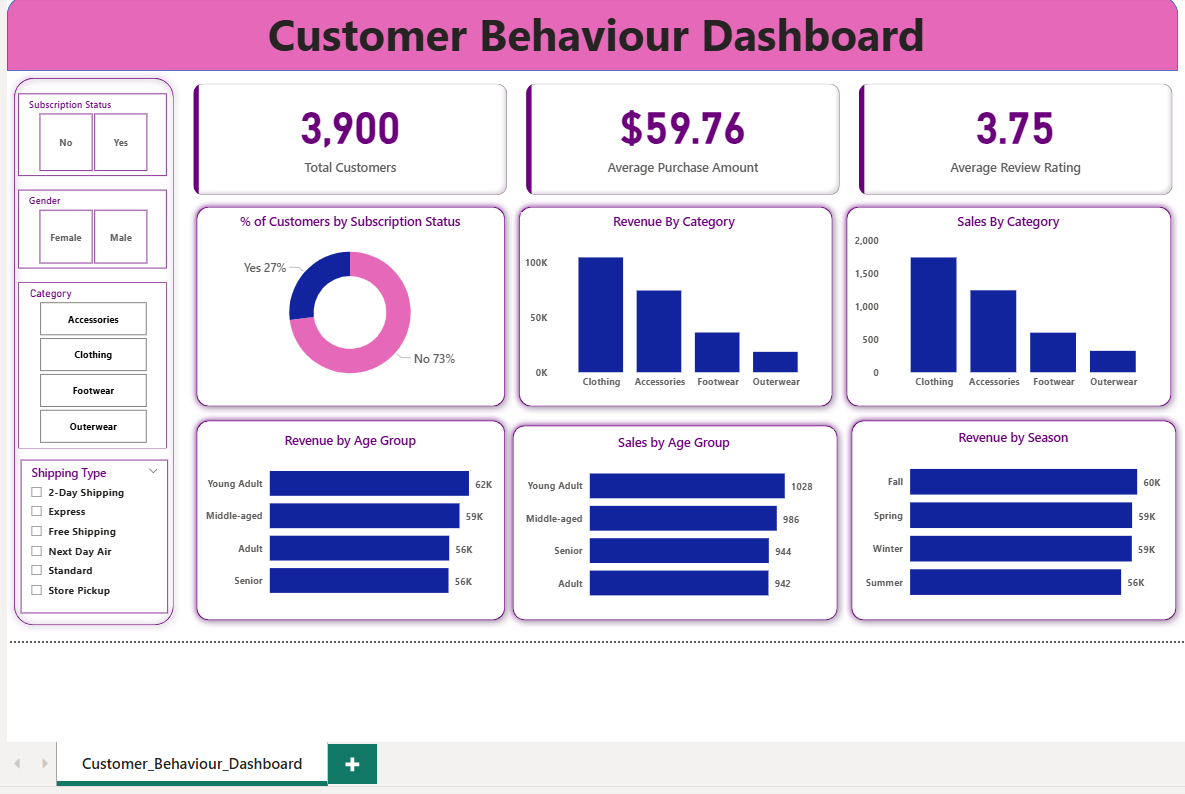

Layout of this report page (visuals, bound fields, positions):
{"tool":"powerbi","page":{"name":"Page 1","canvas":[1500,820],"ordinal":0},"visuals":[{"type":"cardVisual","fields":{"Data":["customer_data.Total Customers","customer_data.Average Purchase","customer_data.Average Rating"]},"box":[232.1,106.5,1257.4,152.6],"z":0},{"type":"shape","box":[0,0,1489.5,95.4],"z":1000},{"type":"textbox","box":[191.1,4.1,1117.8,85.5],"z":2000},{"type":"shape","box":[232.1,259.1,410.1,271.8],"z":3000},{"type":"donutChart","title":"% of Customers by Subscription Status","fields":{"Y":["CountNonNull(customer_data.customer_id)"],"Category":["customer_data.subscription_status"]},"box":[246.4,275,379.9,233.7],"z":4000},{"type":"shape","box":[642.2,259.1,416.5,271.8],"z":5000},{"type":"clusteredColumnChart","title":"Revenue By Category","fields":{"Category":["customer_data.category"],"Y":["Sum(customer_data.purchase_amount)"]},"box":[653.4,275,389.5,233.7],"z":6000},{"type":"shape","box":[1058.7,259.1,430.8,271.8],"z":7000},{"type":"clusteredColumnChart","title":"Sales By Category","fields":{"Category":["customer_data.category"],"Y":["CountNonNull(customer_data.customer_id)"]},"box":[1073,275,400.6,233.7],"z":8000},{"type":"shape","box":[0,95.4,221,713.8],"z":9000},{"type":"slicer","fields":{"Values":["customer_data.subscription_status"]},"box":[14.3,124,189.2,104.9],"z":10000},{"type":"slicer","fields":{"Values":["customer_data.gender"]},"box":[14.3,246.4,189.2,100.1],"z":11000},{"type":"slicer","fields":{"Values":["customer_data.shipping_type"]},"box":[17.5,589.8,187.6,195.5],"z":12000},{"type":"shape","box":[232.1,530.9,410.1,271.8],"z":13000},{"type":"shape","box":[1065.1,530.9,430.8,271.8],"z":14000},{"type":"clusteredBarChart","title":"Revenue by Age Group","fields":{"Y":["Sum(customer_data.purchase_amount)"],"Category":["customer_data.age_group"]},"box":[246.4,553.2,379.9,228.9],"z":15000},{"type":"shape","box":[634.3,537.3,430.8,265.5],"z":16000},{"type":"clusteredBarChart","title":"Sales by Age Group","fields":{"Category":["customer_data.age_group"],"Y":["CountNonNull(customer_data.customer_id)"]},"box":[653.4,556.4,389.5,228.9],"z":17000},{"type":"clusteredBarChart","title":"Revenue by Season","fields":{"Y":["Sum(customer_data.purchase_amount)"],"Category":["customer_data.season"]},"box":[1085.7,550,387.9,235.3],"z":18000},{"type":"slicer","fields":{"Values":["customer_data.category"]},"box":[14.3,364,189.2,211.4],"z":19000}]}

Visuals, with their boxes in screenshot pixels (x1, y1, x2, y2):
cardVisual - customer_data.Total Customers x customer_data.Average Purchase: locate(190, 216, 1170, 335)
shape: locate(9, 133, 1170, 207)
textbox: locate(158, 136, 1029, 203)
shape: locate(190, 335, 510, 546)
"% of Customers by Subscription Status" donutChart: locate(201, 347, 497, 529)
shape: locate(510, 335, 834, 546)
"Revenue By Category" clusteredColumnChart: locate(518, 347, 822, 529)
shape: locate(834, 335, 1170, 546)
"Sales By Category" clusteredColumnChart: locate(845, 347, 1157, 529)
shape: locate(9, 207, 181, 763)
slicer - customer_data.subscription_status: locate(20, 229, 168, 311)
slicer - customer_data.gender: locate(20, 325, 168, 403)
slicer - customer_data.shipping_type: locate(23, 592, 169, 745)
shape: locate(190, 546, 510, 758)
shape: locate(839, 546, 1175, 758)
"Revenue by Age Group" clusteredBarChart: locate(201, 564, 497, 742)
shape: locate(503, 551, 839, 758)
"Sales by Age Group" clusteredBarChart: locate(518, 566, 822, 745)
"Revenue by Season" clusteredBarChart: locate(855, 561, 1157, 745)
slicer - customer_data.category: locate(20, 416, 168, 581)
